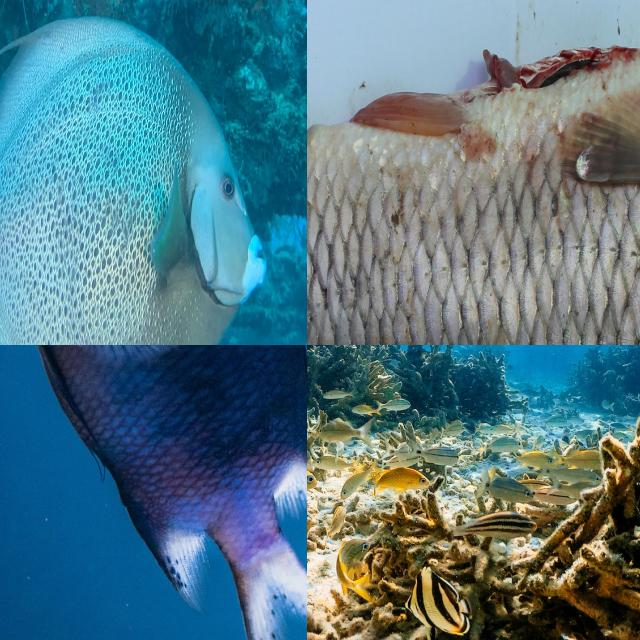fish: (307, 0, 640, 345), (0, 0, 307, 345), (307, 351, 638, 567), (144, 345, 307, 597)
